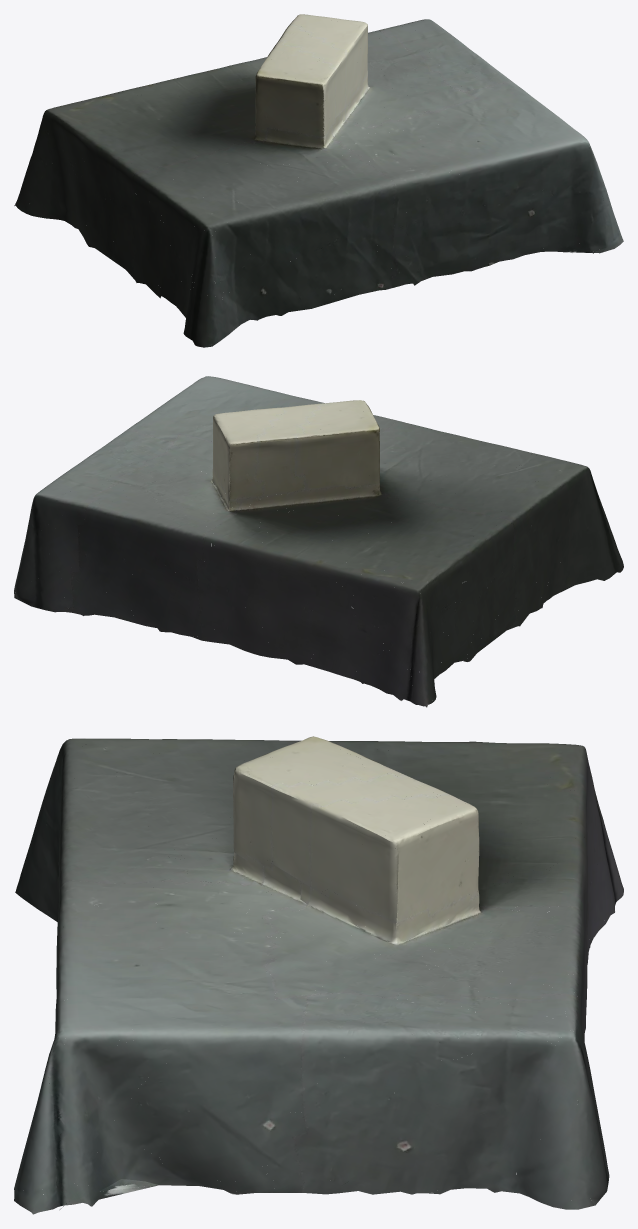
File: 静物_几何体_方块与衬布01_opt.glb
The picture shows the model from 3 angles, top to bottom: view 1: azimuth 30°, elevation 25°; view 2: azimuth 150°, elevation 25°; view 3: azimuth 270°, elevation 25°; orthographic projection. The views are drawn at different scales.
Parts seen in each view (by area): view 1: defaultMat, defaultMat_1; view 2: defaultMat, defaultMat_1; view 3: defaultMat, defaultMat_1.
Boxes of the visible parts, x1,y1,x2,y2 form: defaultMat: (14,14,623,347); defaultMat_1: (18,17,621,347); defaultMat: (14,376,623,707); defaultMat_1: (14,383,621,706); defaultMat: (14,736,623,1214); defaultMat_1: (23,736,614,1209).
Bounding box in the file's own units: 1.56 × 0.6 × 1.23.
1 material, 1 textured.
